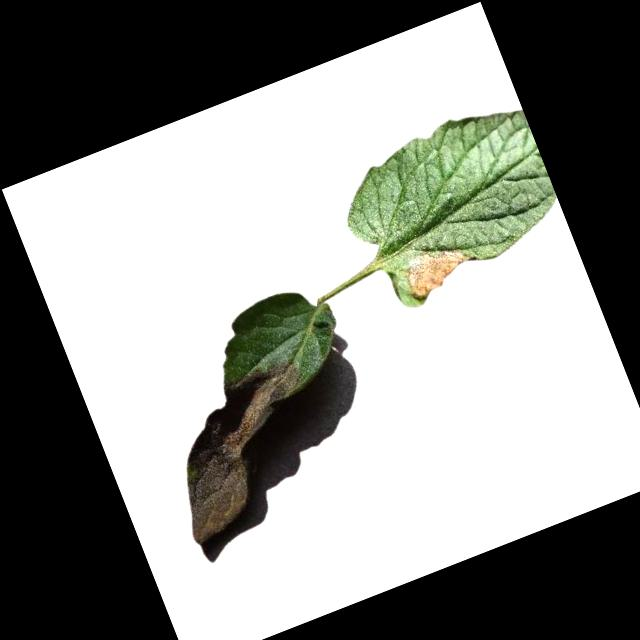Late_blight: (143, 351, 346, 545), (399, 242, 475, 304)
